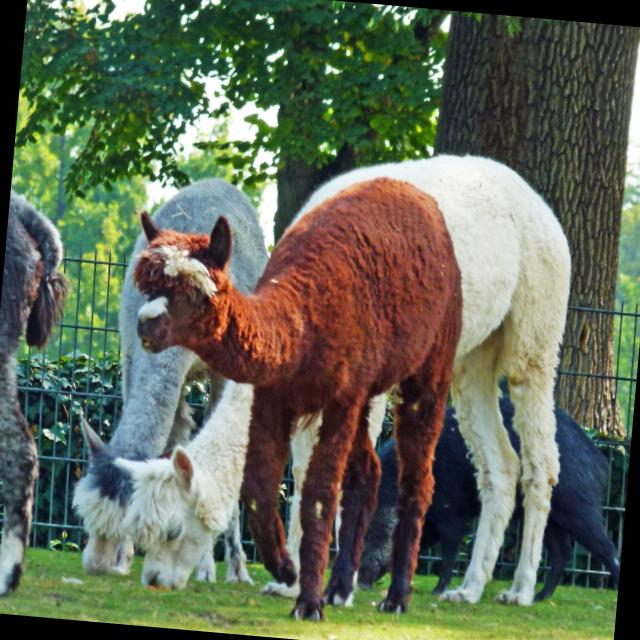alpaca: (107, 127, 584, 624), (107, 152, 471, 628), (61, 163, 280, 589)
